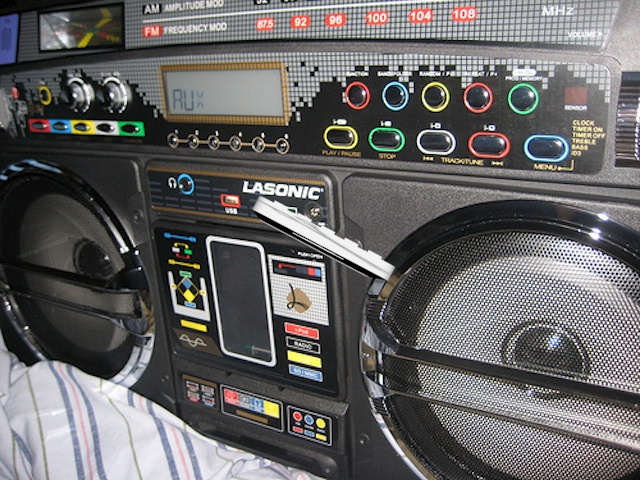calculator: (249, 193, 400, 288)
